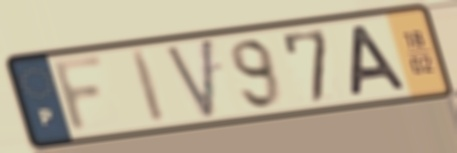7: (278, 26, 330, 105)
9: (229, 37, 286, 110)
A: (348, 23, 411, 99)
F: (49, 51, 110, 139)
I: (128, 46, 170, 126)
V: (161, 35, 217, 123)
